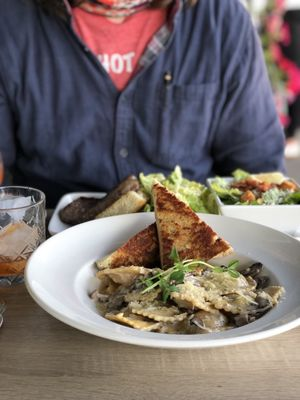pizza: (0, 185, 46, 285)
soup: (152, 179, 236, 268)
